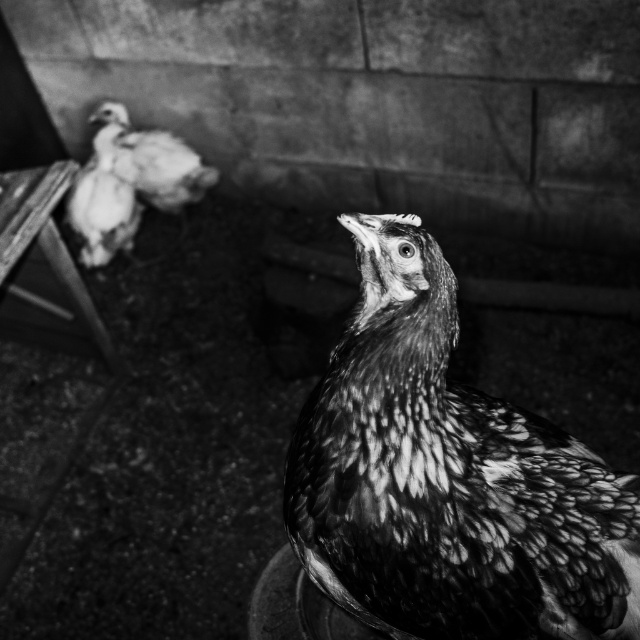Chicken: (277, 206, 640, 632)
